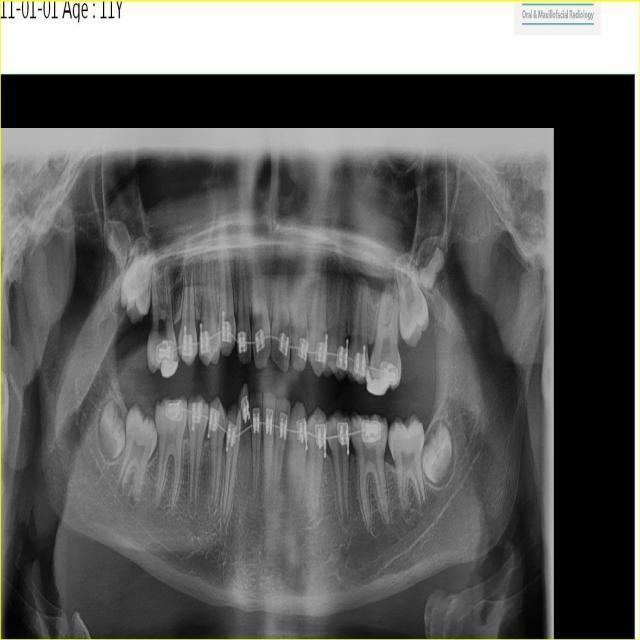Straumann Implant: (356, 365, 393, 400), (159, 354, 179, 379)
